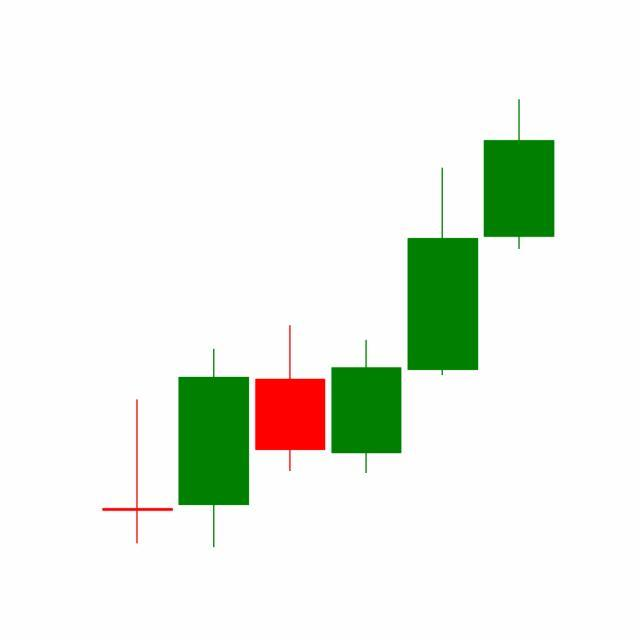Three Outside Up-Down: (252, 164, 482, 477)
